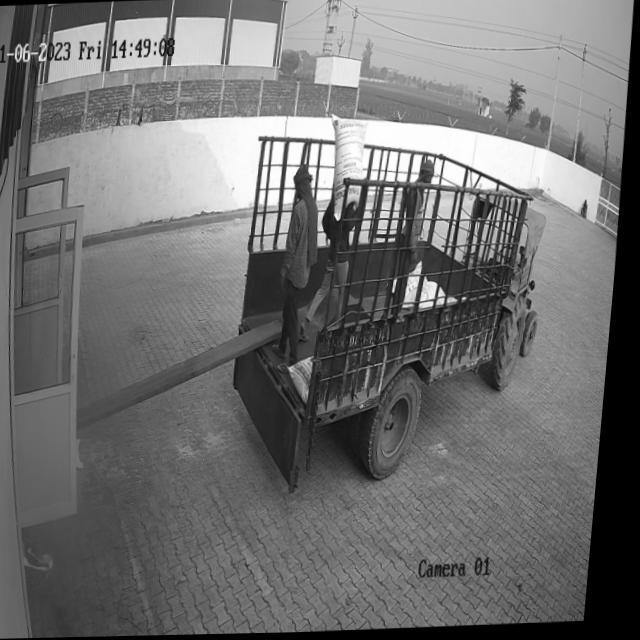sack: (325, 111, 371, 224)
